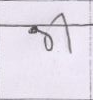i_matra: (43, 13, 63, 52)
